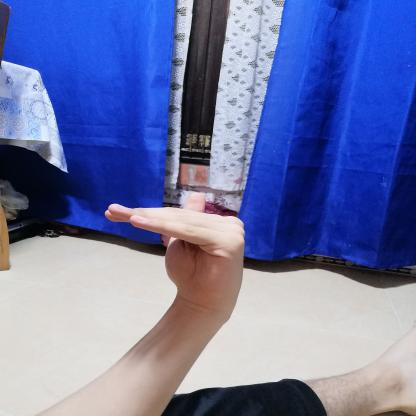KHAA: (82, 186, 268, 313)
